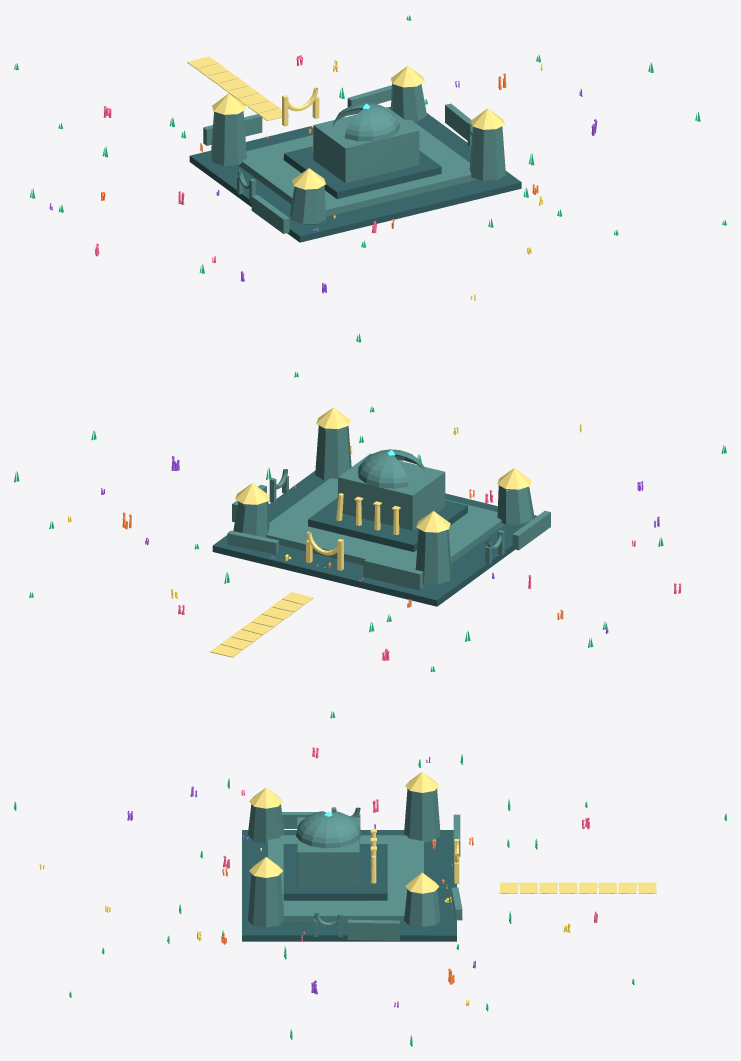
The model's file is atlantis.glb.
The picture shows the model from 3 angles, top to bottom: view 1: azimuth 30°, elevation 25°; view 2: azimuth 150°, elevation 25°; view 3: azimuth 270°, elevation 25°; orthographic projection. The views are drawn at different scales.
Parts seen in each view (by area): view 1: atlantis_part_0, atlantis_part_1, atlantis_part_3, atlantis_part_2, atlantis_part_15, atlantis_part_26, atlantis_part_17, atlantis_part_23, atlantis_part_20, atlantis_part_40, atlantis_part_41, atlantis_part_39 (+1 smaller); view 2: atlantis_part_0, atlantis_part_1, atlantis_part_3, atlantis_part_2, atlantis_part_15, atlantis_part_17, atlantis_part_26, atlantis_part_23, atlantis_part_38, atlantis_part_20, atlantis_part_39, atlantis_part_40; view 3: atlantis_part_0, atlantis_part_1, atlantis_part_2, atlantis_part_3, atlantis_part_15, atlantis_part_26, atlantis_part_17, atlantis_part_20, atlantis_part_23, atlantis_part_41.
Part boxes in pixels (left/top/right/bottom): atlantis_part_0: left=189, top=106, right=521, bottom=242; atlantis_part_1: left=238, top=119, right=477, bottom=216; atlantis_part_3: left=313, top=107, right=419, bottom=183; atlantis_part_2: left=283, top=146, right=441, bottom=198; atlantis_part_15: left=332, top=103, right=399, bottom=141; atlantis_part_26: left=469, top=126, right=505, bottom=180; atlantis_part_17: left=210, top=111, right=246, bottom=165; atlantis_part_23: left=289, top=185, right=325, bottom=224; atlantis_part_20: left=391, top=83, right=426, bottom=121; atlantis_part_40: left=251, top=194, right=289, bottom=233; atlantis_part_41: left=445, top=103, right=471, bottom=140; atlantis_part_39: left=347, top=85, right=391, bottom=106; atlantis_part_0: left=212, top=471, right=536, bottom=606; atlantis_part_1: left=266, top=478, right=504, bottom=569; atlantis_part_3: left=338, top=453, right=445, bottom=530; atlantis_part_2: left=308, top=497, right=467, bottom=551; atlantis_part_15: left=358, top=449, right=424, bottom=488; atlantis_part_17: left=415, top=529, right=451, bottom=584; atlantis_part_26: left=315, top=425, right=351, bottom=480; atlantis_part_23: left=497, top=485, right=533, bottom=524; atlantis_part_38: left=363, top=558, right=423, bottom=590; atlantis_part_20: left=233, top=501, right=269, bottom=537; atlantis_part_39: left=227, top=530, right=278, bottom=554; atlantis_part_40: left=512, top=510, right=550, bottom=550; atlantis_part_0: left=242, top=830, right=456, bottom=941; atlantis_part_1: left=268, top=835, right=423, bottom=922; atlantis_part_2: left=283, top=844, right=387, bottom=900; atlantis_part_3: left=297, top=817, right=359, bottom=886; atlantis_part_15: left=296, top=811, right=361, bottom=848; atlantis_part_26: left=248, top=873, right=284, bottom=927; atlantis_part_17: left=404, top=788, right=440, bottom=842; atlantis_part_20: left=404, top=889, right=440, bottom=927; atlantis_part_23: left=248, top=804, right=284, bottom=843; atlantis_part_41: left=347, top=919, right=399, bottom=940.
Bounding box in the file's own units: 197 × 25.15 × 206.
